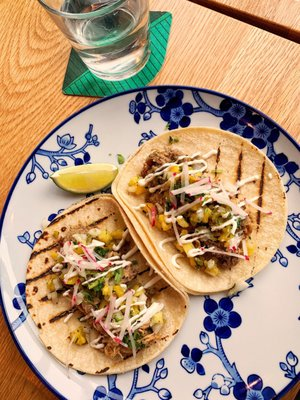pizza: (35, 0, 151, 81)
soup: (111, 127, 287, 296)
